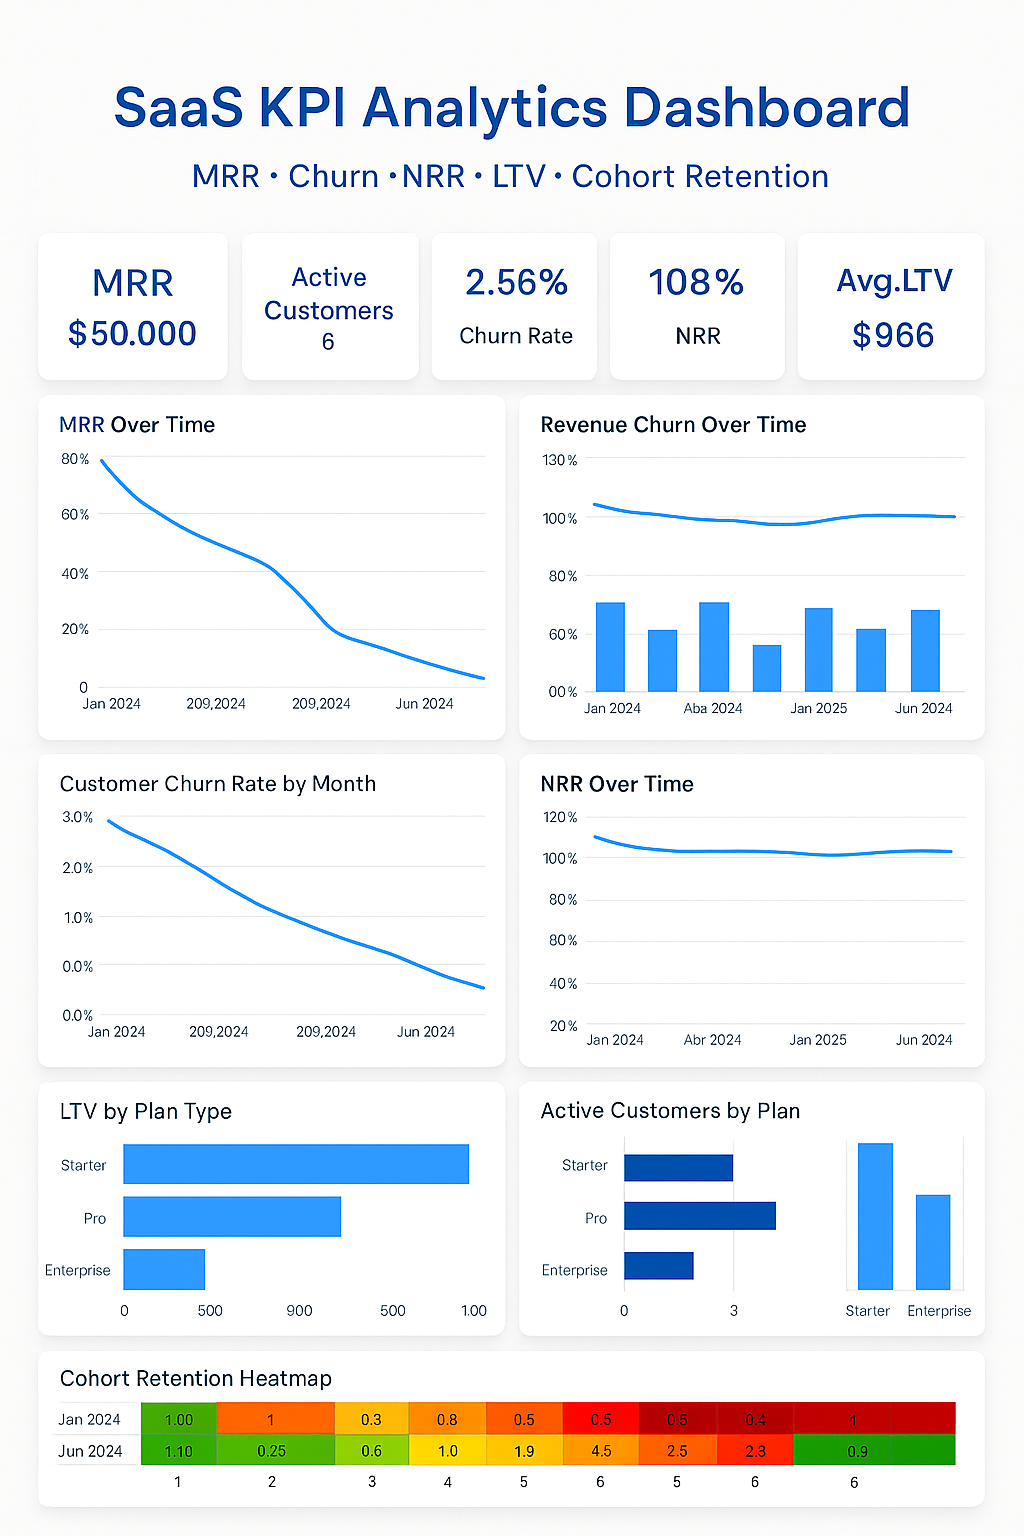

What the dashboard file says about the page in this screenshot:
{"tool":"powerbi","page":{"name":"Page 1","canvas":[1280,720],"ordinal":0},"visuals":[{"type":"pivotTable","fields":{"Rows":["cohort_retention.cohort_month"],"Columns":["cohort_retention.active_month"],"Values":["Sum(cohort_retention.retention_rate)"]},"box":[755.5,296.3,524.5,126.6],"z":0},{"type":"lineChart","fields":{"Category":["monthly_mrr.month_start"],"Y":["Sum(monthly_mrr.mrr)"]},"box":[0,484.2,499.5,218.4],"z":1000},{"type":"lineChart","fields":{"Category":["customer_churn.month_start"],"Y":["Sum(customer_churn.churn_rate)"]},"box":[368.7,268.5,349.2,215.7],"z":2000},{"type":"clusteredColumnChart","fields":{"Category":["revenue_churn.month_start"],"Y":["Sum(revenue_churn.churned_mrr)"]},"box":[0,268.5,356.2,214.3],"z":3000},{"type":"lineChart","fields":{"Category":["nrr.month_start"],"Y":["Sum(nrr.NRR)"]},"box":[857,473,423,247.7],"z":4000},{"type":"clusteredBarChart","fields":{"Category":["segment_ltv.plan"],"Series":["segment_ltv.LTV"],"Y":["CountNonNull(segment_ltv.plan)"]},"box":[499.5,485.6,357.6,235.1],"z":5000},{"type":"textbox","box":[0,0,1280,130.8],"z":5001},{"type":"card","title":"MRR","fields":{"Values":["Sum(monthly_mrr.mrr)"]},"box":[15.3,114.1,233.7,136.3],"z":5002},{"type":"card","title":"Active Customer","fields":{"Values":["CountNonNull(segment_ltv.active_customers)"]},"box":[275.5,114.1,210.1,136.3],"z":5003},{"type":"card","title":"Churn Rate","fields":{"Values":["CountNonNull(segment_ltv.churn_rate)"]},"box":[523.1,114.1,233.7,136.3],"z":5004},{"type":"card","title":"NRR","fields":{"Values":["Sum(nrr.NRR)"]},"box":[784.7,114.1,225.4,136.3],"z":5005},{"type":"card","title":"Avg.LTV","fields":{"Values":["Avg(segment_ltv.LTV)"]},"box":[1032.3,114.1,228.2,136.3],"z":5006}]}

Visuals, with their boxes on the page's 1280x720 design canvas (x1, y1, x2, y2). These are canvas units, not pixel positions in the 1024x1536 screenshot, which may show the page scaled, cropped or inside an application window:
pivotTable - cohort_retention.cohort_month x cohort_retention.active_month: (left=756, top=296, right=1280, bottom=423)
lineChart - monthly_mrr.month_start x Sum(monthly_mrr.mrr): (left=0, top=484, right=500, bottom=703)
lineChart - customer_churn.month_start x Sum(customer_churn.churn_rate): (left=369, top=268, right=718, bottom=484)
clusteredColumnChart - revenue_churn.month_start x Sum(revenue_churn.churned_mrr): (left=0, top=268, right=356, bottom=483)
lineChart - nrr.month_start x Sum(nrr.NRR): (left=857, top=473, right=1280, bottom=721)
clusteredBarChart - segment_ltv.plan x segment_ltv.LTV: (left=500, top=486, right=857, bottom=721)
textbox: (left=0, top=0, right=1280, bottom=131)
"MRR" card: (left=15, top=114, right=249, bottom=250)
"Active Customer" card: (left=276, top=114, right=486, bottom=250)
"Churn Rate" card: (left=523, top=114, right=757, bottom=250)
"NRR" card: (left=785, top=114, right=1010, bottom=250)
"Avg.LTV" card: (left=1032, top=114, right=1260, bottom=250)
